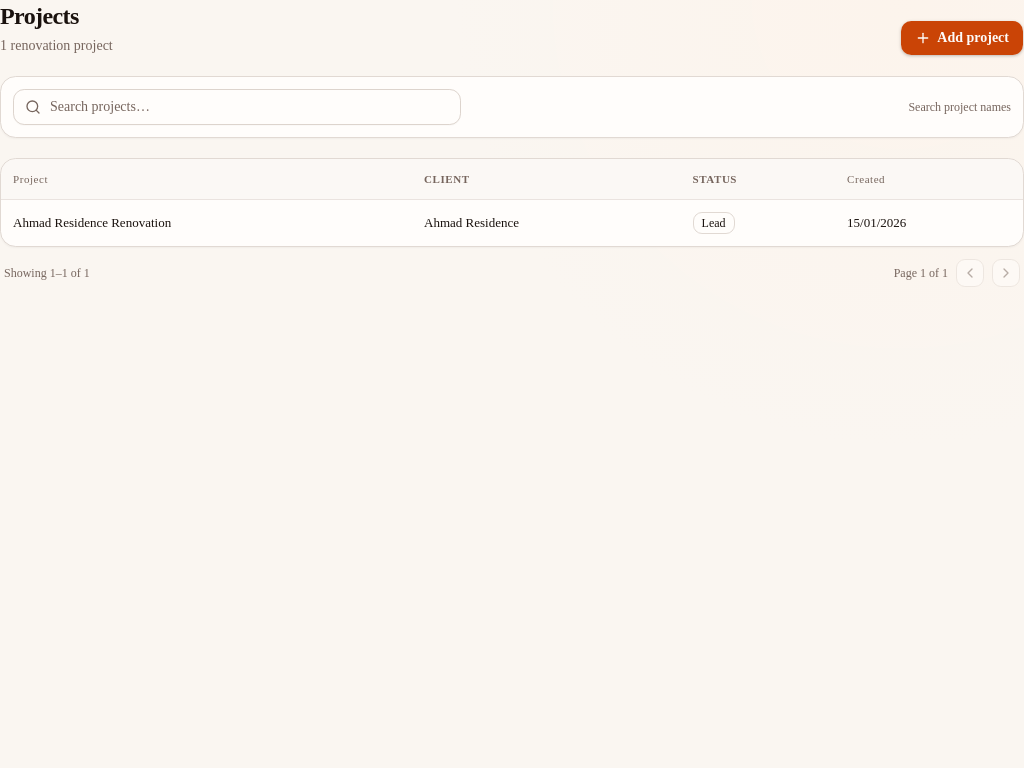
Test case: ProjectList › opens a create dialog listing available clients
Expected: the text "Ahmad Residence Renovation" is shown, [13,215,171,230]
Click the button "Add project".
click(962, 38)  # box [900,20,1023,56]
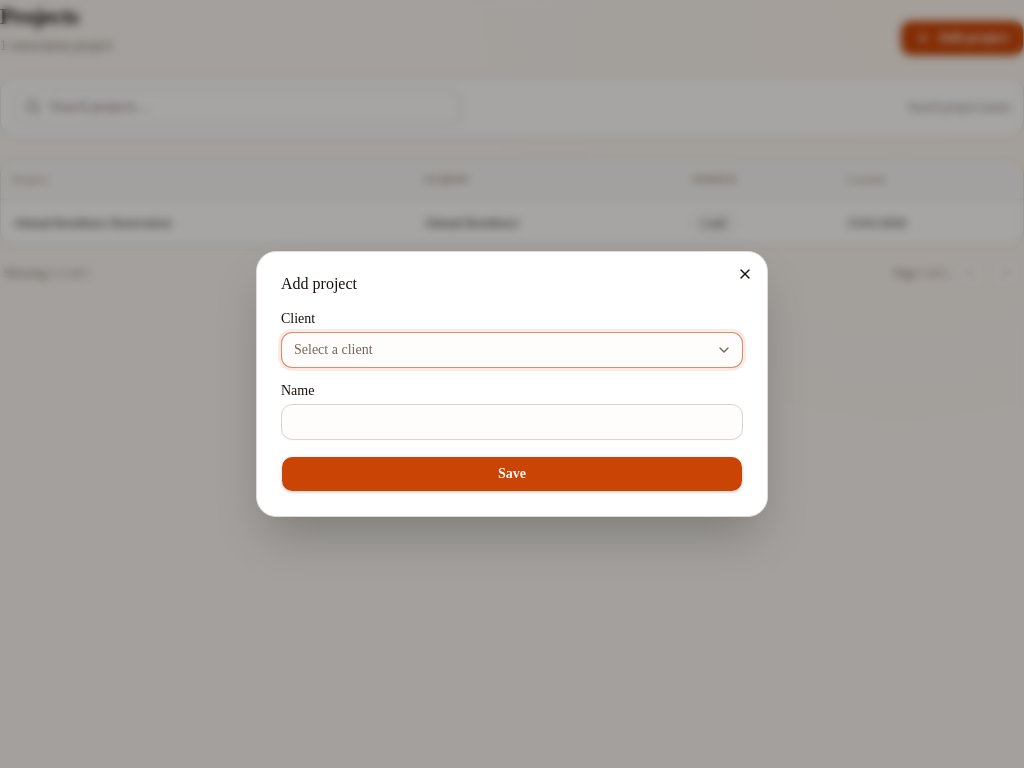
Expected: the dropdown labelled "Select a client ▼" is shown, [281,332,743,368]
